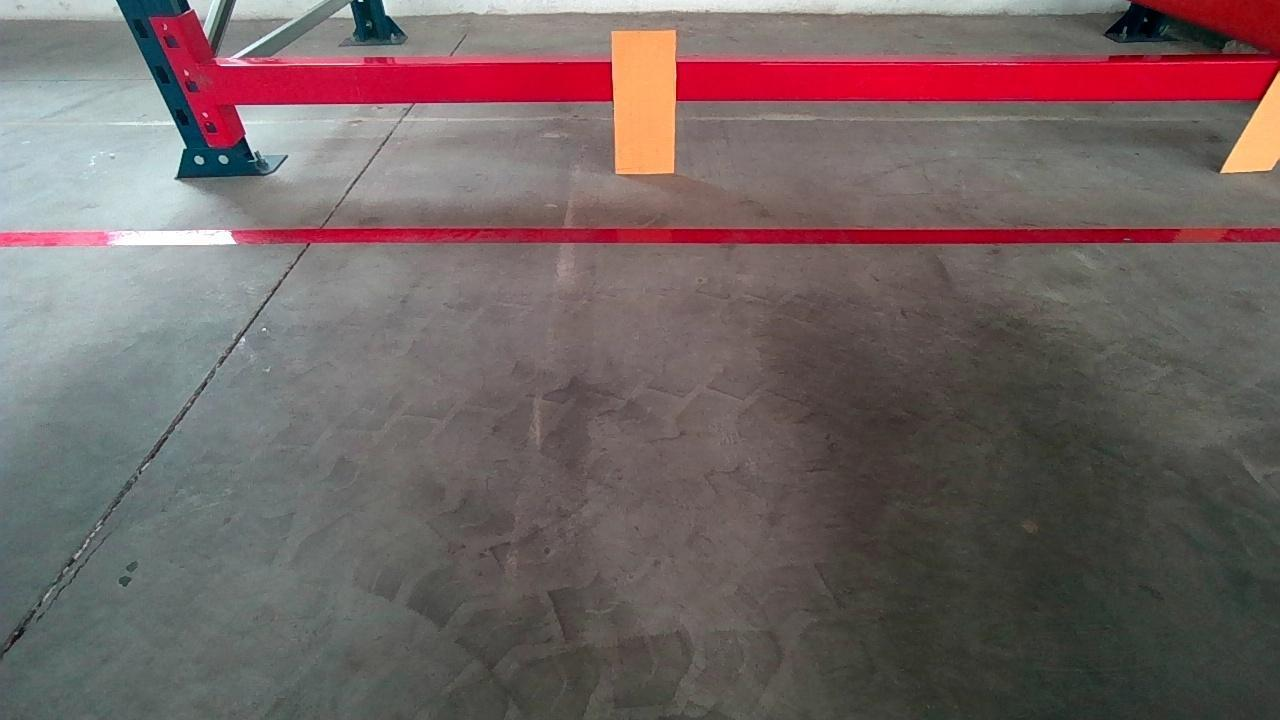h_rack: (201, 59, 1280, 106)
orange_strip: (612, 30, 678, 174), (1224, 65, 1280, 171)
